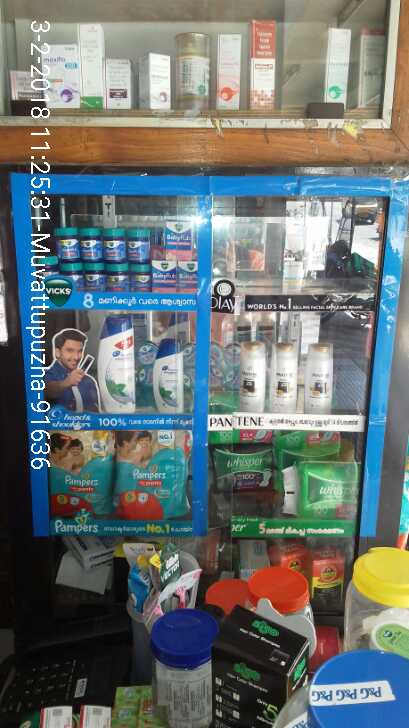vicks: (41, 221, 202, 296)
